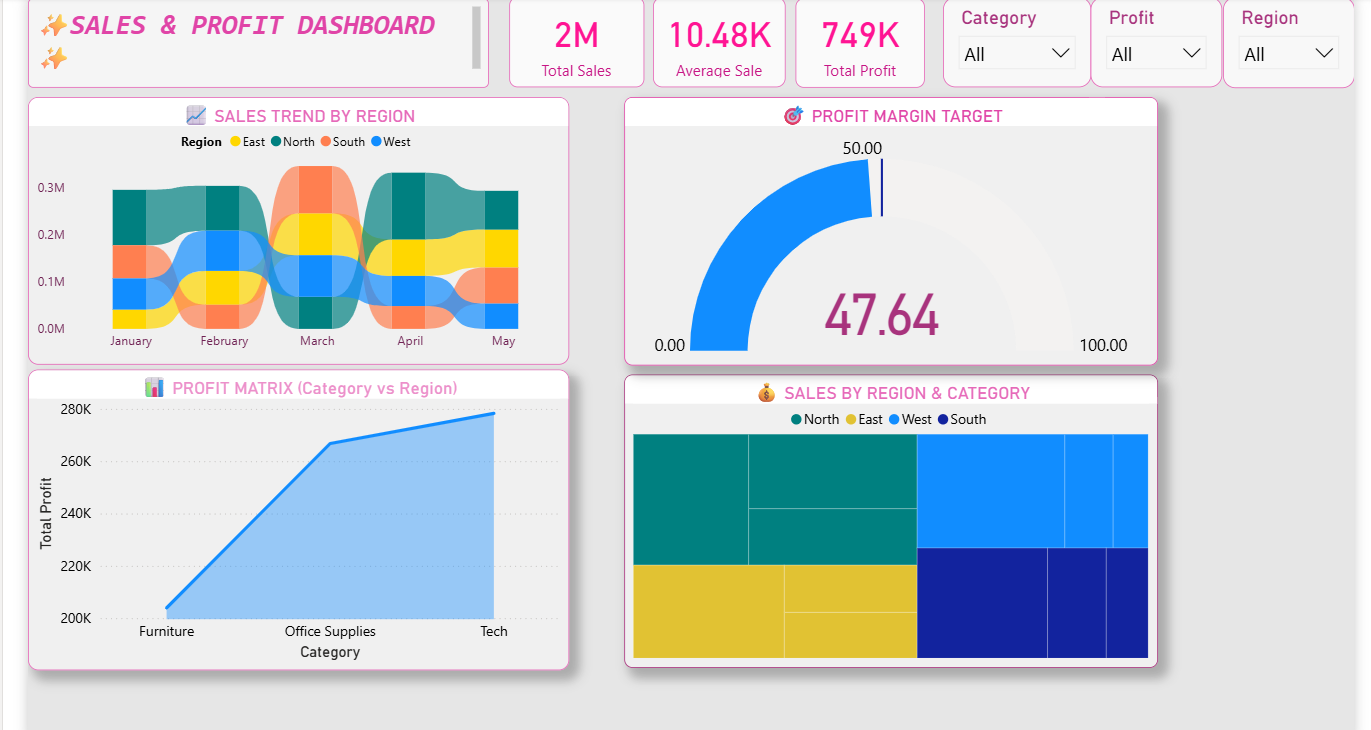

This screenshot's page, from the dashboard's own definition file:
{"tool":"powerbi","page":{"name":"Page 1","canvas":[1280,720],"ordinal":0},"visuals":[{"type":"card","fields":{"Values":["business_dashboard_data.Total Sales"]},"box":[464,0,130,87],"z":0},{"type":"ribbonChart","title":"\t📈 SALES TREND BY REGION","fields":{"Category":["business_dashboard_data.Order_Date.Variation.Date Hierarchy.Month","business_dashboard_data.Order_Date.Variation.Date Hierarchy.Day"],"Y":["business_dashboard_data.Total Sales"],"Series":["business_dashboard_data.Region"]},"box":[0,97,522,258],"z":1000},{"type":"card","fields":{"Values":["business_dashboard_data.Average Sale"]},"box":[603,0,128,87],"z":2000},{"type":"card","fields":{"Values":["business_dashboard_data.Total Profit"]},"box":[741,1,125,86],"z":3000},{"type":"treemap","title":"💰 SALES BY REGION & CATEGORY","fields":{"Values":["business_dashboard_data.Total Sales"],"Details":["business_dashboard_data.Category"],"Group":["business_dashboard_data.Region"]},"box":[575,364,515,283],"z":4000},{"type":"stackedAreaChart","title":"📊 PROFIT MATRIX (Category vs Region)","fields":{"Category":["business_dashboard_data.Category","business_dashboard_data.Region"],"Y":["business_dashboard_data.Total Profit"]},"box":[0,360,522,290],"z":5000},{"type":"gauge","title":"🎯 PROFIT MARGIN TARGET","fields":{"Y":["business_dashboard_data.Profit Margin %"]},"box":[575,97,515,259],"z":6000},{"type":"textbox","box":[0,1,445,86],"z":7000},{"type":"slicer","fields":{"Values":["business_dashboard_data.Region"]},"box":[1153,0,127,88],"z":8000},{"type":"slicer","fields":{"Values":["business_dashboard_data.Category"]},"box":[883,0,143,87],"z":9000},{"type":"slicer","fields":{"Values":["business_dashboard_data.Profit"]},"box":[1026,0,127,87],"z":10001}]}

Visuals, with their boxes in screenshot pixels (x1, y1, x2, y2):
card - business_dashboard_data.Total Sales: box(505, 0, 639, 83)
"	📈 SALES TREND BY REGION" ribbonChart: box(25, 93, 565, 360)
card - business_dashboard_data.Average Sale: box(649, 0, 781, 83)
card - business_dashboard_data.Total Profit: box(791, 0, 921, 83)
"💰 SALES BY REGION & CATEGORY" treemap: box(620, 369, 1152, 662)
"📊 PROFIT MATRIX (Category vs Region)" stackedAreaChart: box(25, 365, 565, 665)
"🎯 PROFIT MARGIN TARGET" gauge: box(620, 93, 1152, 361)
textbox: box(25, 0, 485, 83)
slicer - business_dashboard_data.Region: box(1218, 0, 1349, 84)
slicer - business_dashboard_data.Category: box(938, 0, 1086, 83)
slicer - business_dashboard_data.Profit: box(1086, 0, 1218, 83)
